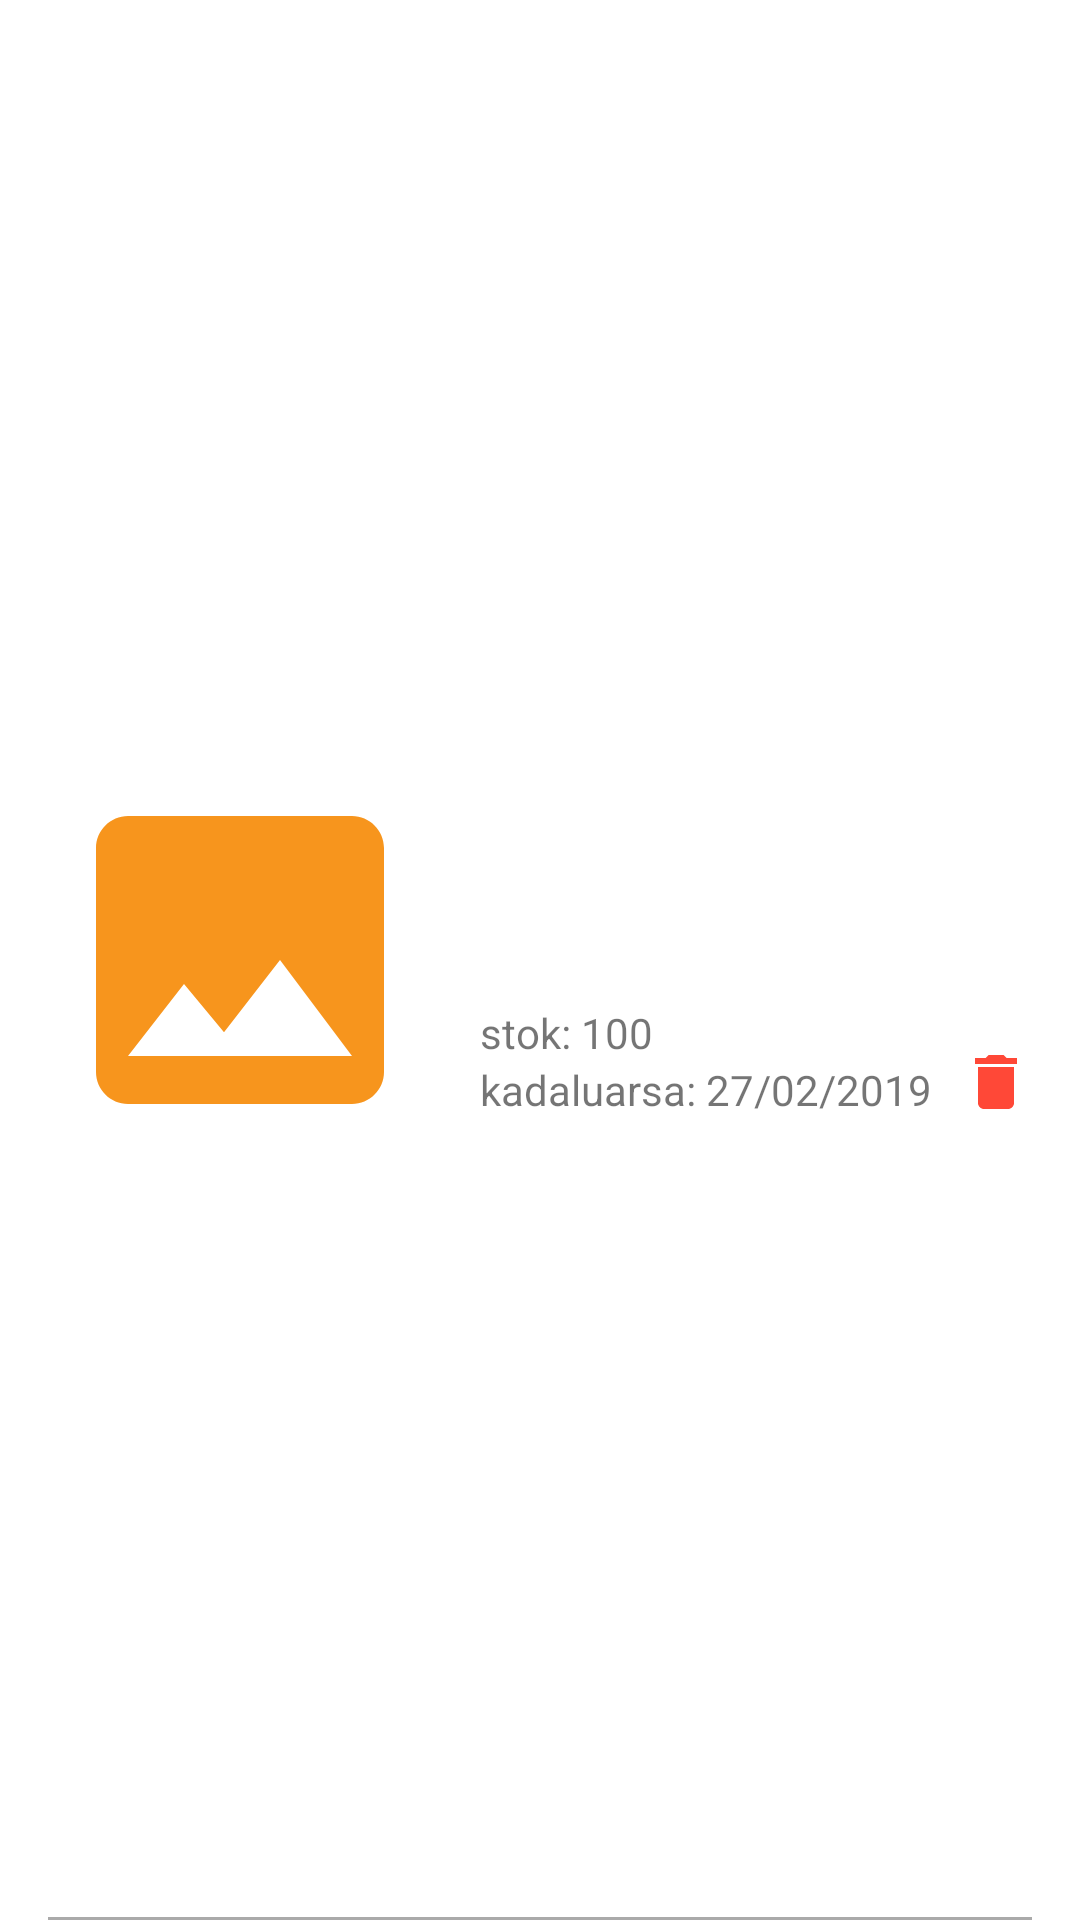

Icon click points for this 1080*1920 phone screenshot, format (x=x, y=y):
item cart delete: (x=996, y=1082)
